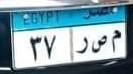3: (30, 31, 41, 65)
7: (41, 30, 59, 62)
ر: (75, 34, 89, 57)
ص: (90, 32, 107, 55)
م: (109, 27, 119, 53)
